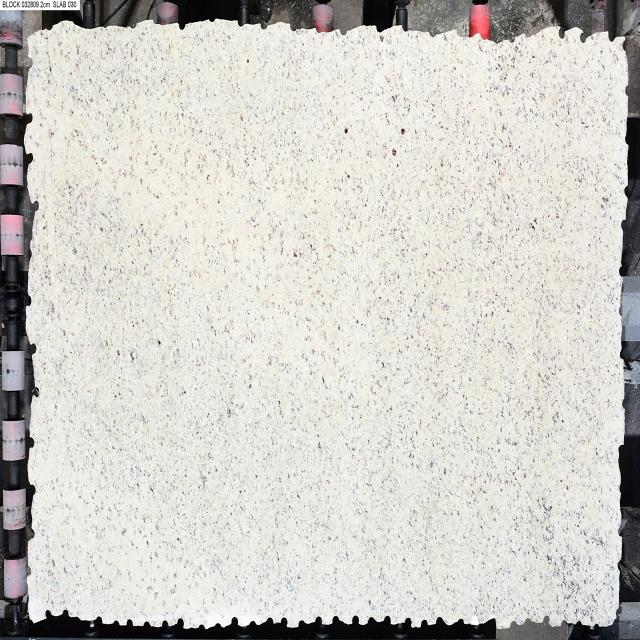veio: (556, 25, 567, 42), (433, 615, 447, 628), (30, 383, 41, 398), (29, 340, 39, 356), (229, 614, 240, 628), (26, 434, 36, 449), (278, 616, 290, 628), (174, 617, 186, 629), (542, 613, 552, 627), (403, 614, 413, 628), (578, 30, 587, 45), (313, 615, 324, 627), (351, 614, 361, 627), (32, 199, 40, 213), (383, 614, 391, 626), (420, 618, 428, 628)
